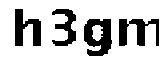3: (46, 6, 78, 51)
g: (80, 14, 113, 60)
h: (9, 6, 43, 51)
m: (113, 14, 160, 53)
